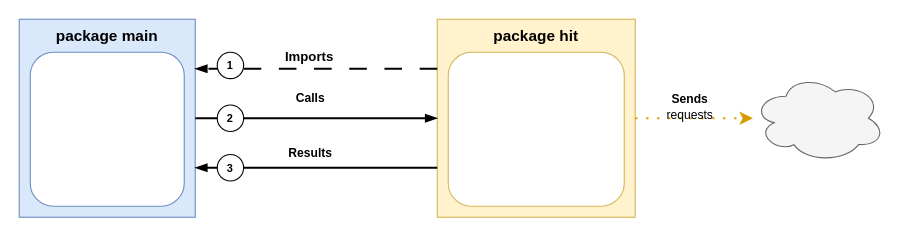
This 904x237 diagram has some shape labels left out. Each missing label, with the centre of its shape:
HTTP server: the point at 818,117
Provides a CLI Flag parsing, usage messages, displaying reports, and so on: the point at 106,128
Reusable logic Performance measurement and reporting logic: the point at 535,128
